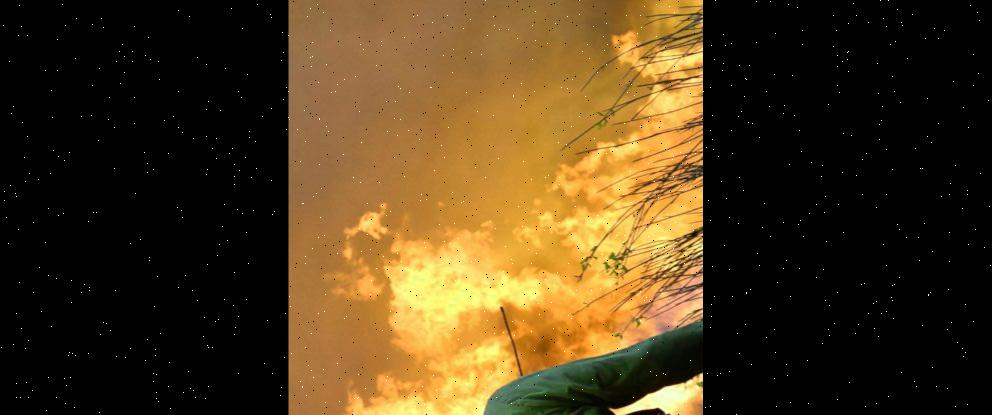fire: (335, 0, 703, 415)
